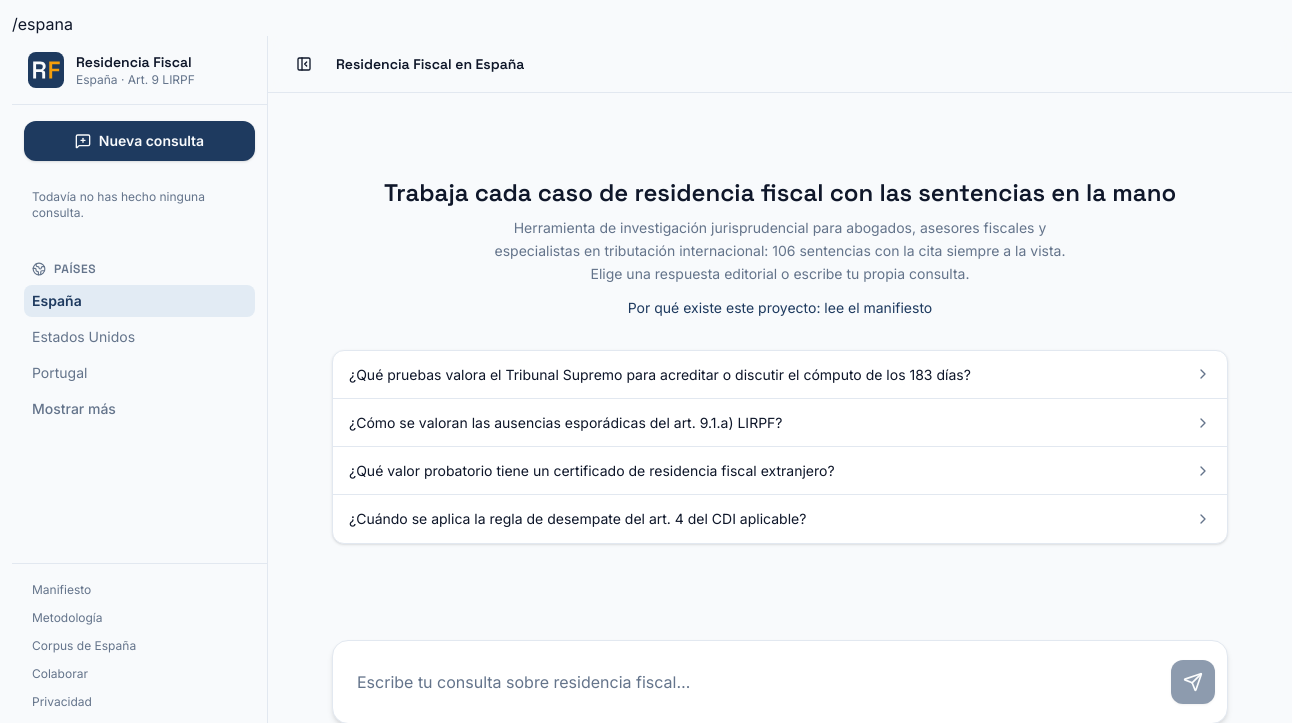
Test case: navegación del chat de España › conserva la primera respuesta al pasar de /espana a la conversación
Step 1. Type "primera consulta" into the text box labelled "consulta" → [754, 682], box [345,653,1163,711]
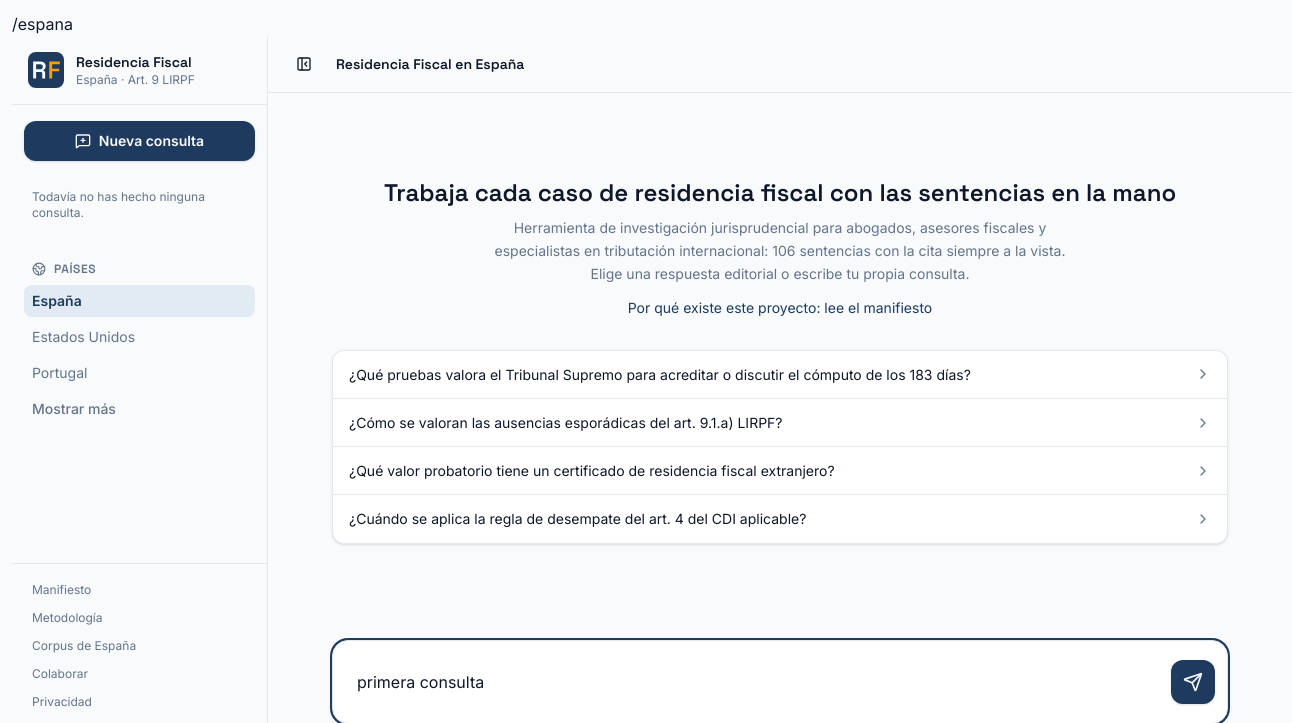
Step 2. Click the button named "Enviar consulta" → [1193, 682], box [1171,660,1215,704]
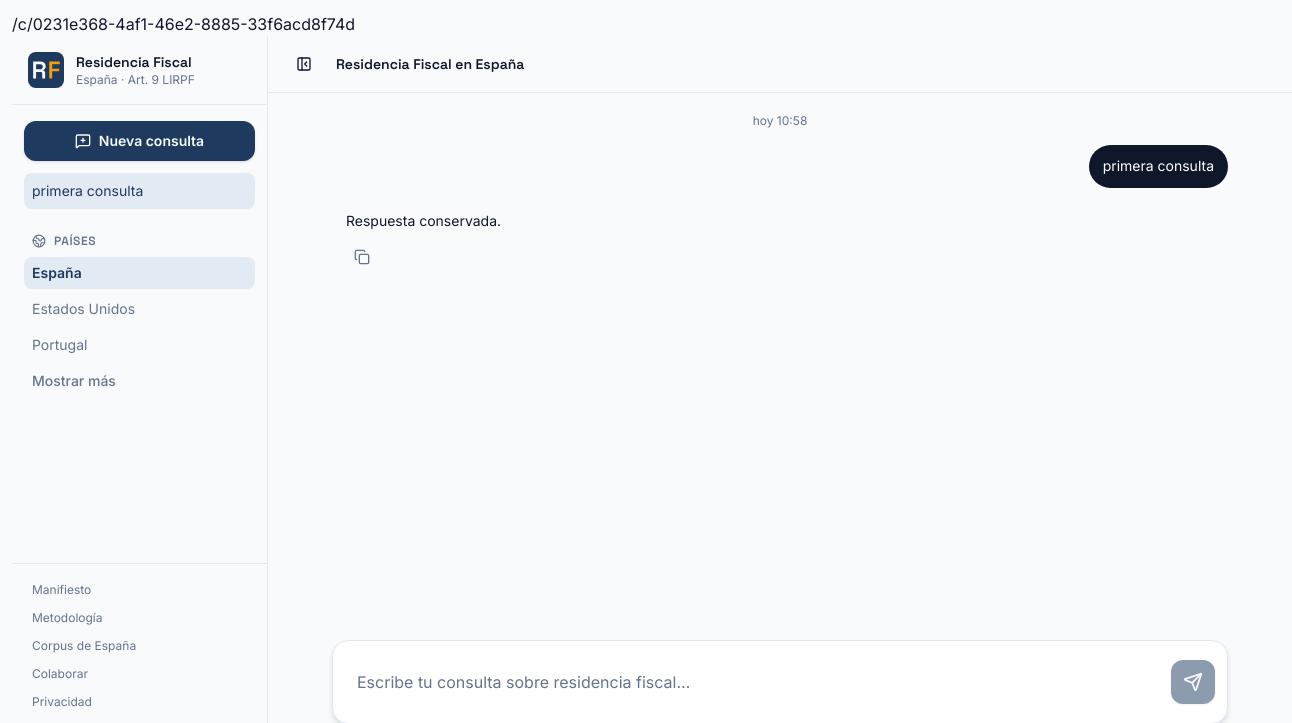
Result: the text with test id "location" shows "/c/" at [12,14,355,34]
Result: the text "Respuesta conservada." is shown at [346,210,501,233]
